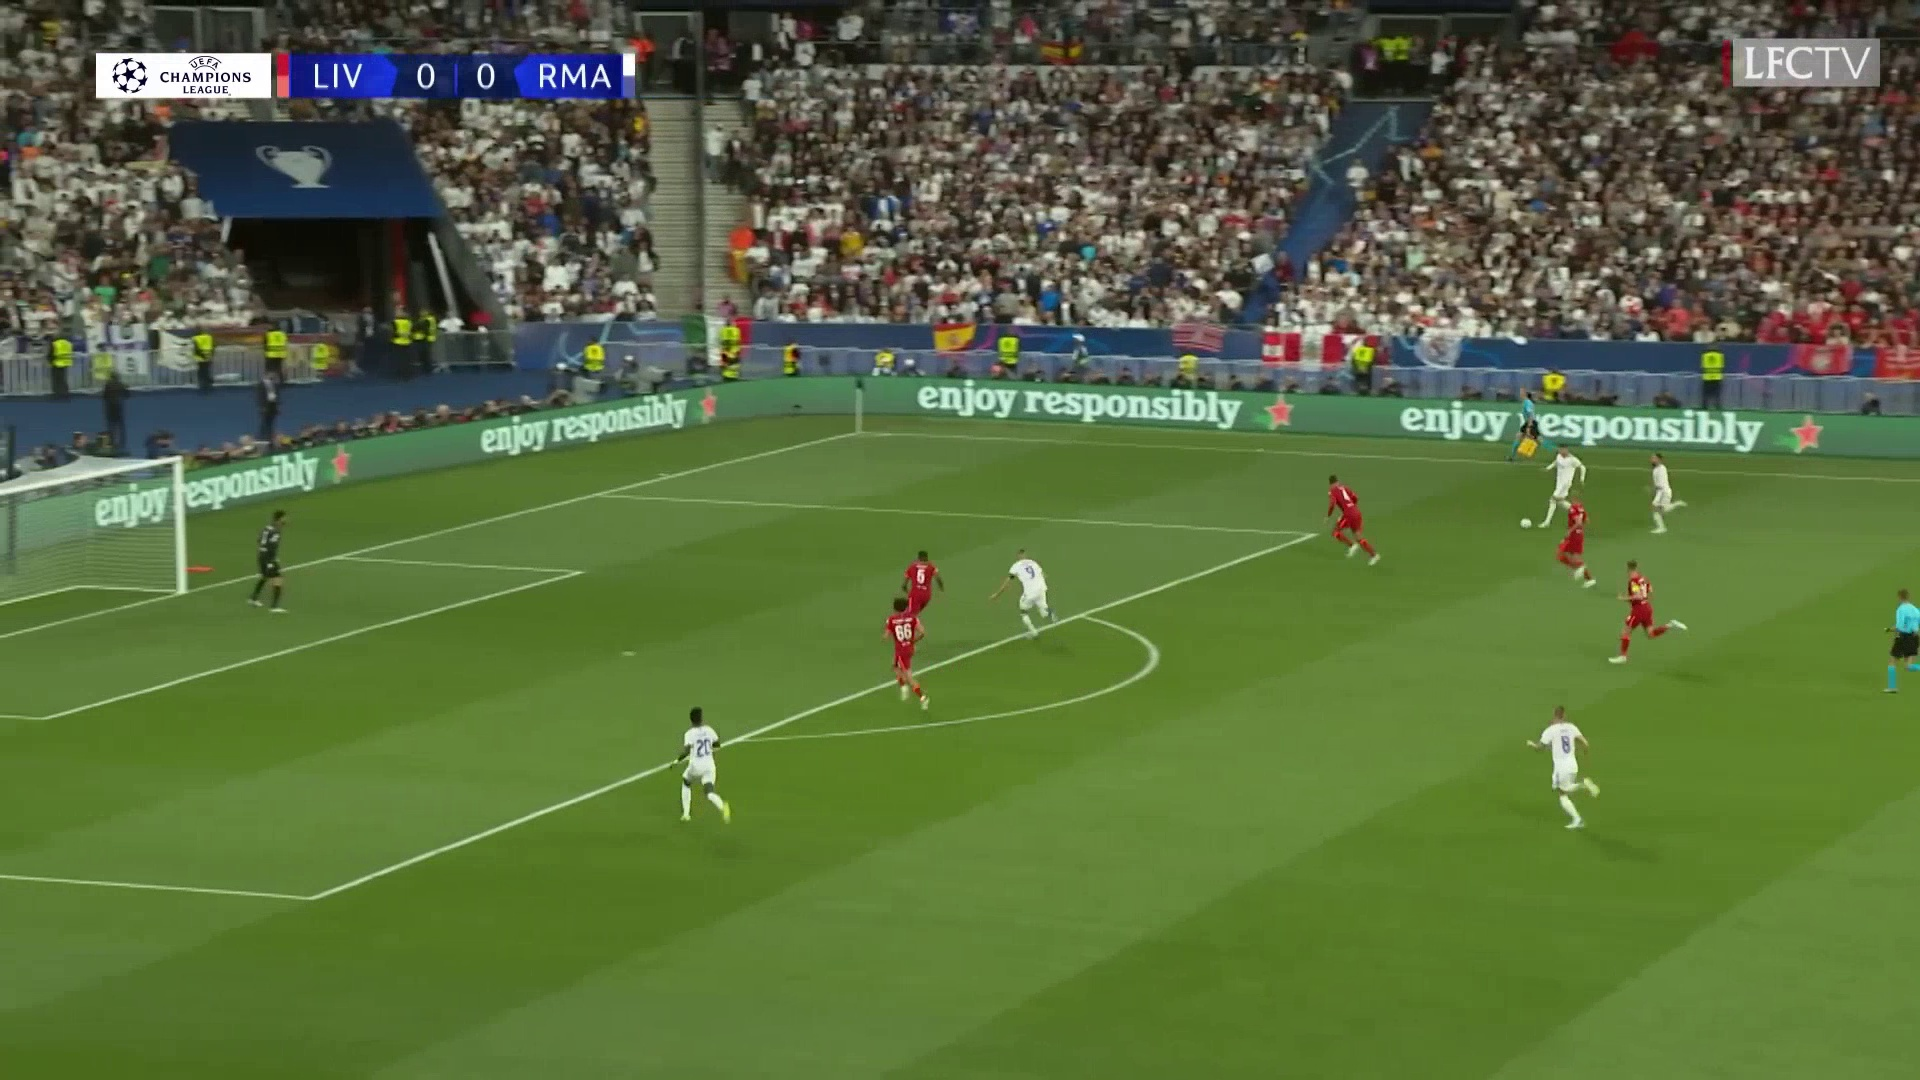ball: (1513, 502, 1537, 539)
player 1: (1549, 435, 1582, 522)
player 12: (254, 496, 306, 619)
player 13: (1319, 463, 1390, 575)
player 14: (881, 593, 935, 707)
player 15: (1545, 524, 1605, 586)
player 16: (896, 550, 944, 612)
player 17: (1625, 554, 1677, 672)
player 2: (1636, 442, 1700, 537)
player 3: (670, 696, 741, 828)
player 4: (1000, 545, 1064, 647)
player 5: (1534, 689, 1616, 836)
reffree: (1875, 580, 1920, 704)
